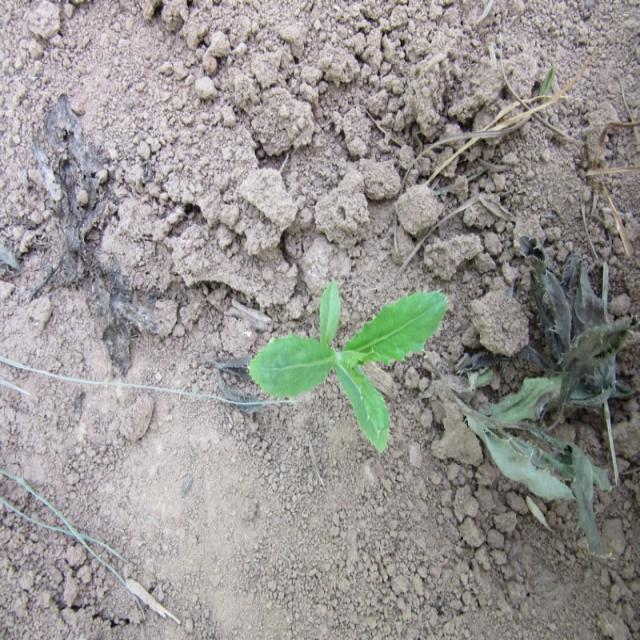cs: (244, 276, 451, 455)
